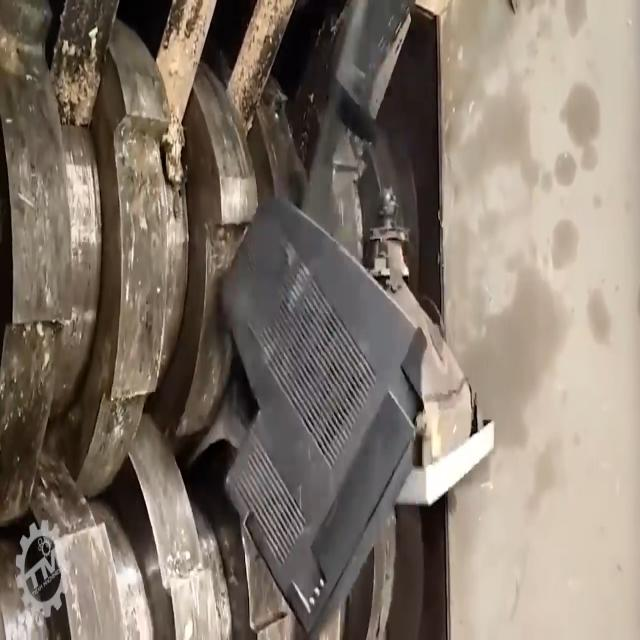Broyeur: (0, 0, 497, 640)
